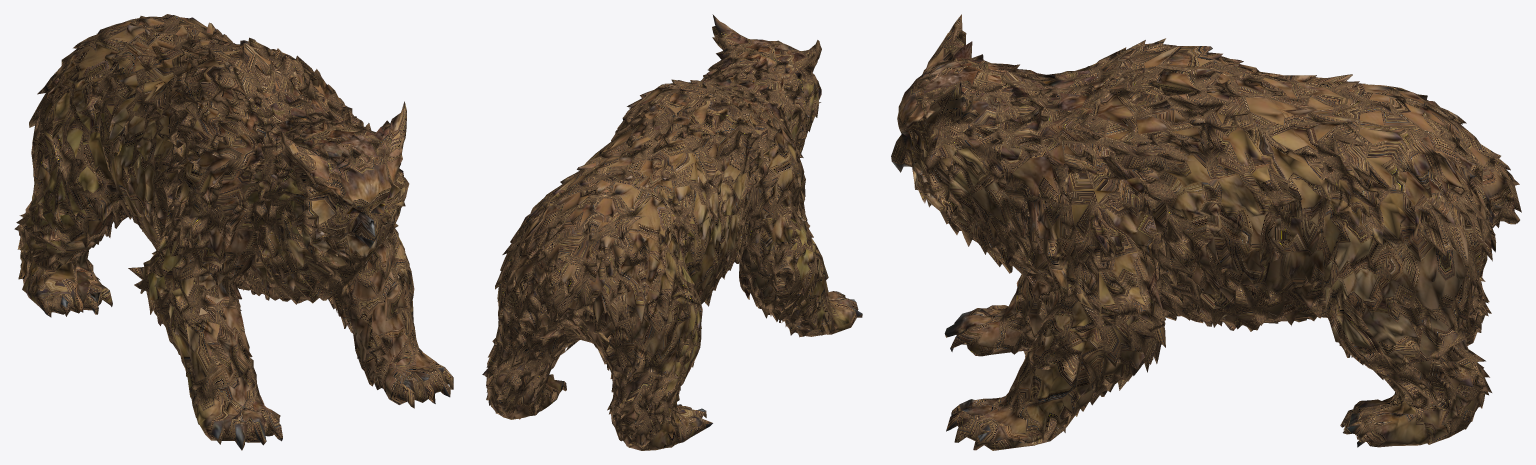
Rendered from owlbear.glb.
3 views of the same model, side by side, from view 1: azimuth 30°, elevation 25°; view 2: azimuth 150°, elevation 25°; view 3: azimuth 270°, elevation 25° (orthographic). The views are drawn at different scales.
Bounding box in the file's own units: 0.9511 × 1.15 × 1.91.
1 material, 1 textured.
